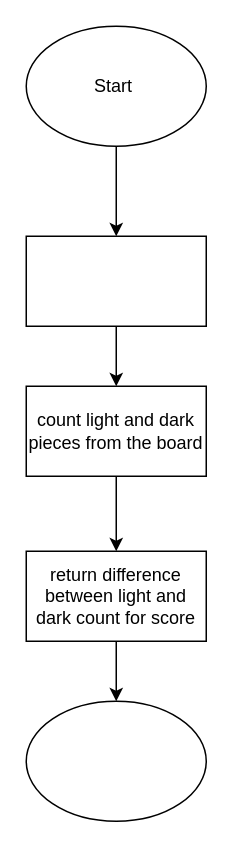
Image size: 233x848. Some labels were removed from this diagram. Here are the shapes that lost their labels. From the top down, the centre of each, then its label:
At point 115,280: "Initialise evaluate_board() that takes board and colour as arguments".
At point 115,760: "Finish".
